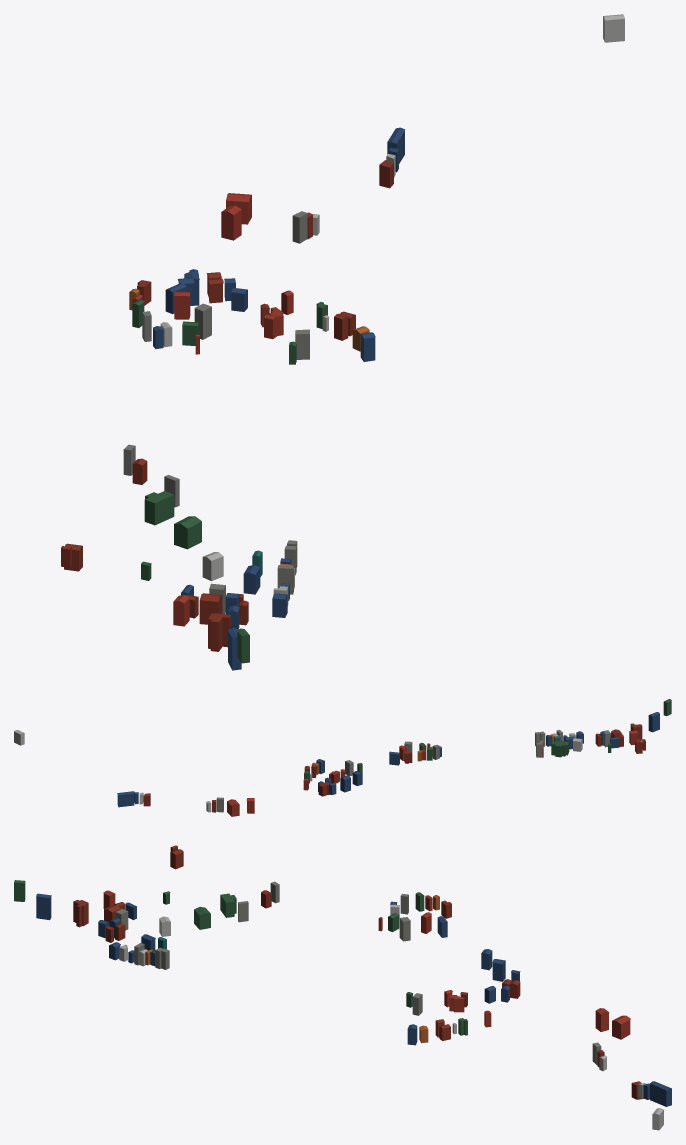
The model's file is near-15-27362-14879.b0d0dbde.glb.
3 views of the same model, one above another, from view 1: azimuth 30°, elevation 25°; view 2: azimuth 150°, elevation 25°; view 3: azimuth 270°, elevation 25° (orthographic). The views are drawn at different scales.
Bounding box in the file's own units: 857 × 119 × 776.
